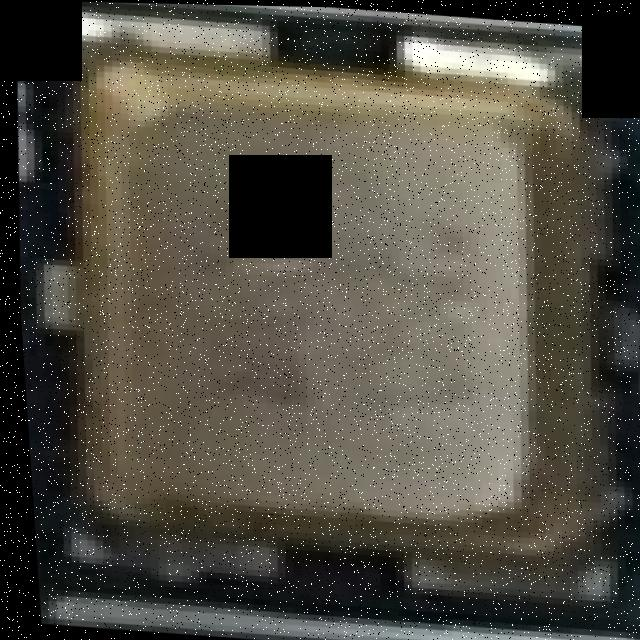clock Q1: (38, 27, 640, 599)
